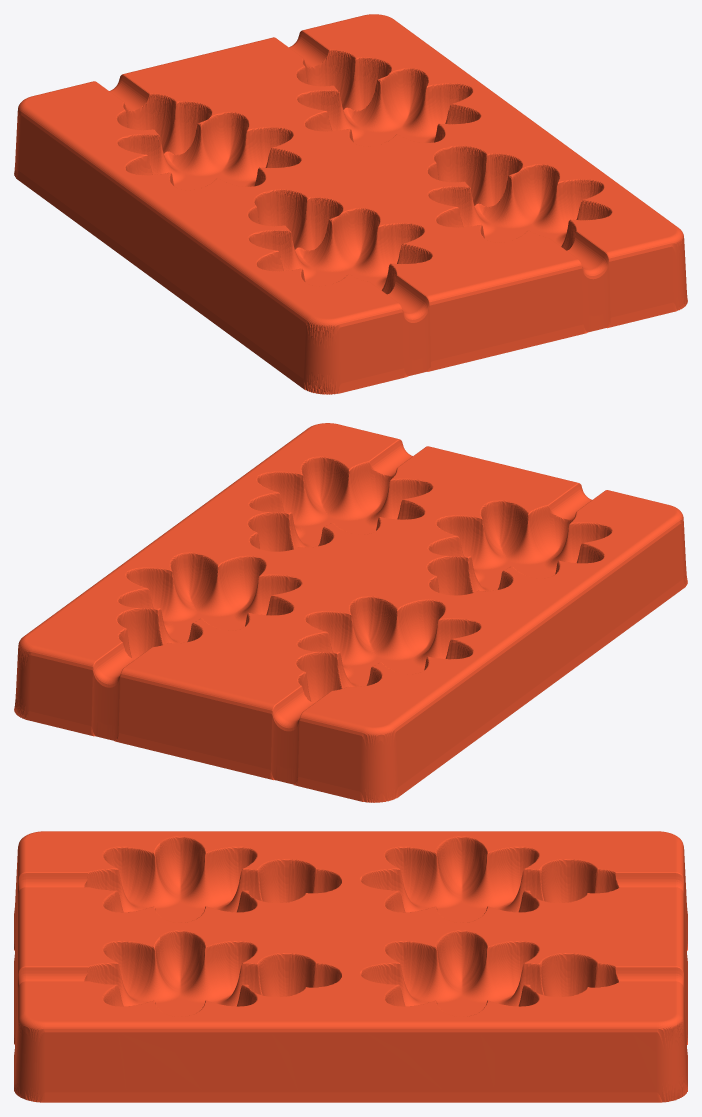
Rendered from mold.glb.
3 views of the same model, one above another, from view 1: azimuth 30°, elevation 25°; view 2: azimuth 150°, elevation 25°; view 3: azimuth 270°, elevation 25° (orthographic). The views are drawn at different scales.
Visible parts, largest first — view 1: geometry_0; view 2: geometry_0; view 3: geometry_0.
Part boxes in pixels (x1,y1,x2,y2): geometry_0: [14, 14, 687, 394]; geometry_0: [14, 423, 687, 802]; geometry_0: [14, 831, 687, 1102].
Bounding box in the file's own units: 0.1381 × 0.0245 × 0.1968.
